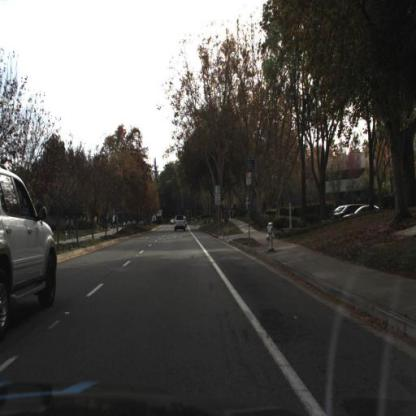biker: (217, 204, 233, 246), (222, 202, 234, 240)
car: (1, 165, 59, 346), (173, 213, 188, 235)
